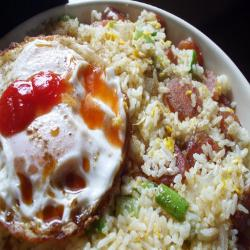omelette: (2, 44, 120, 241)
rice: (126, 177, 231, 247)
